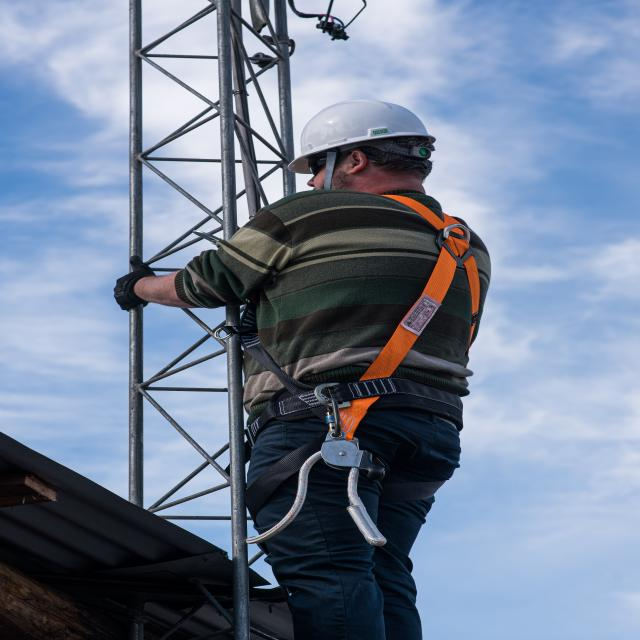capacete: (282, 96, 440, 176)
luva: (107, 252, 162, 314)
